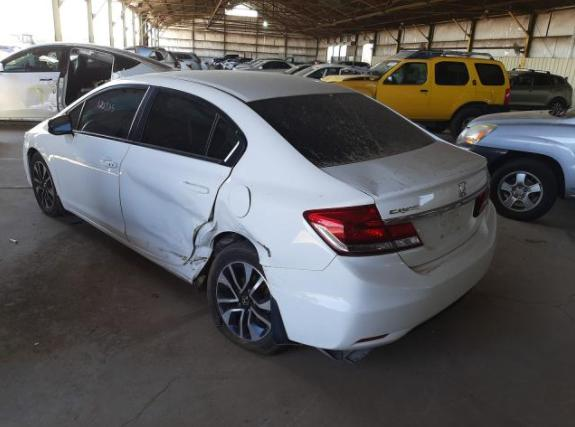Back-bumper: (261, 198, 497, 351)
Back-door: (119, 85, 247, 265)
Back-wheel: (208, 240, 294, 355)
Back-window: (139, 92, 238, 161)
Back-windshield: (246, 93, 436, 168)
Fender: (22, 124, 64, 204)
Front-bumper: (22, 145, 32, 187)
Front-door: (53, 84, 156, 242)
Front-wheel: (31, 151, 72, 217)
Front-window: (68, 87, 148, 139)
Mirror: (47, 114, 73, 135)
Quarter-panel: (177, 155, 374, 285)
Rocker-panel: (65, 204, 196, 284)
Roof: (120, 70, 359, 102)
Tail-light: (302, 204, 397, 256), (386, 221, 424, 252), (473, 188, 489, 217)
Trunk: (246, 93, 490, 267)
